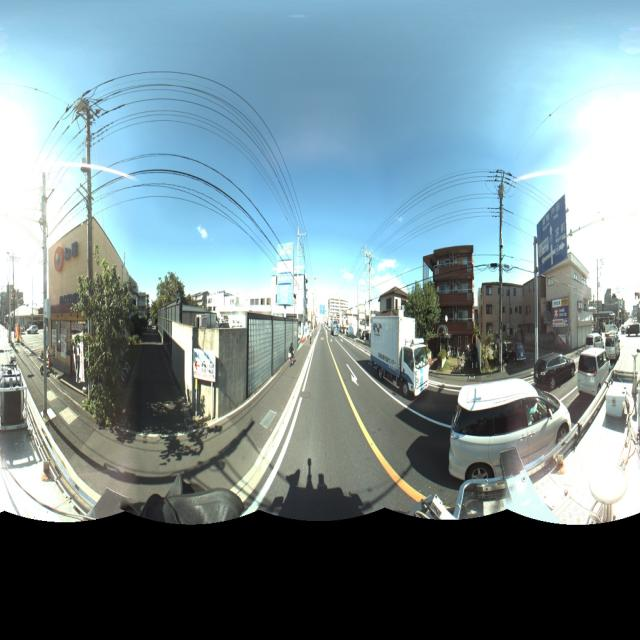b_1: (420, 242, 476, 358), (544, 252, 596, 364), (479, 270, 543, 350)
b_2: (43, 211, 139, 398)
